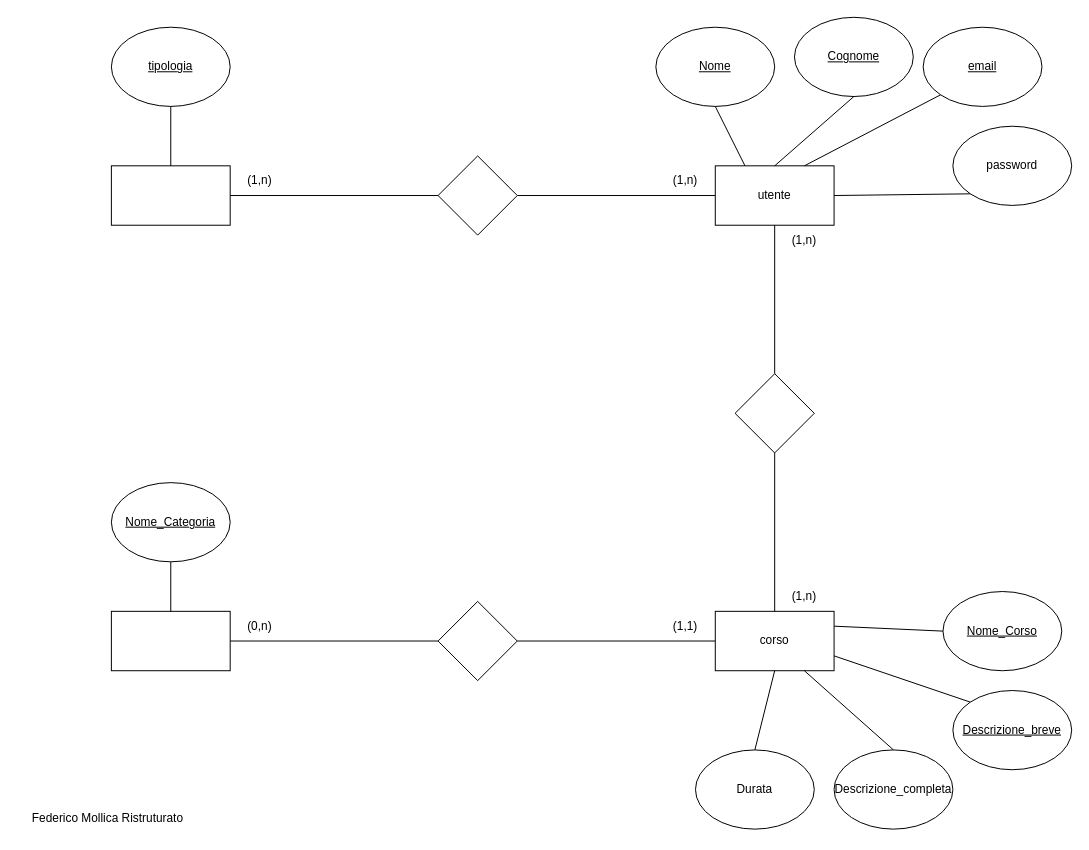
This 1089x850 diagram has some shape labels left out. The shapes that lost their labels are listed below. From the top down, each one's centre as x and y in pixels, then its label:
At point 170,195: "ruolo".
At point 477,195: "assegnare".
At point 774,413: "iscrivere".
At point 170,640: "categoria".
At point 477,640: "appartenere".
